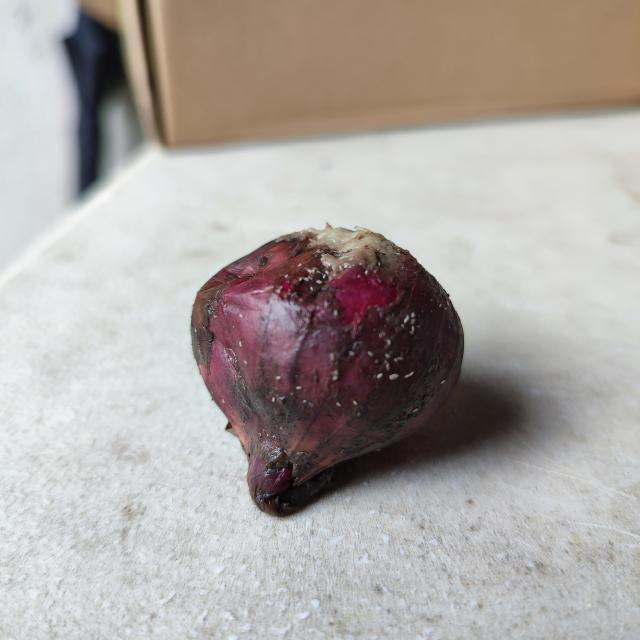Onion: (191, 226, 464, 516)
